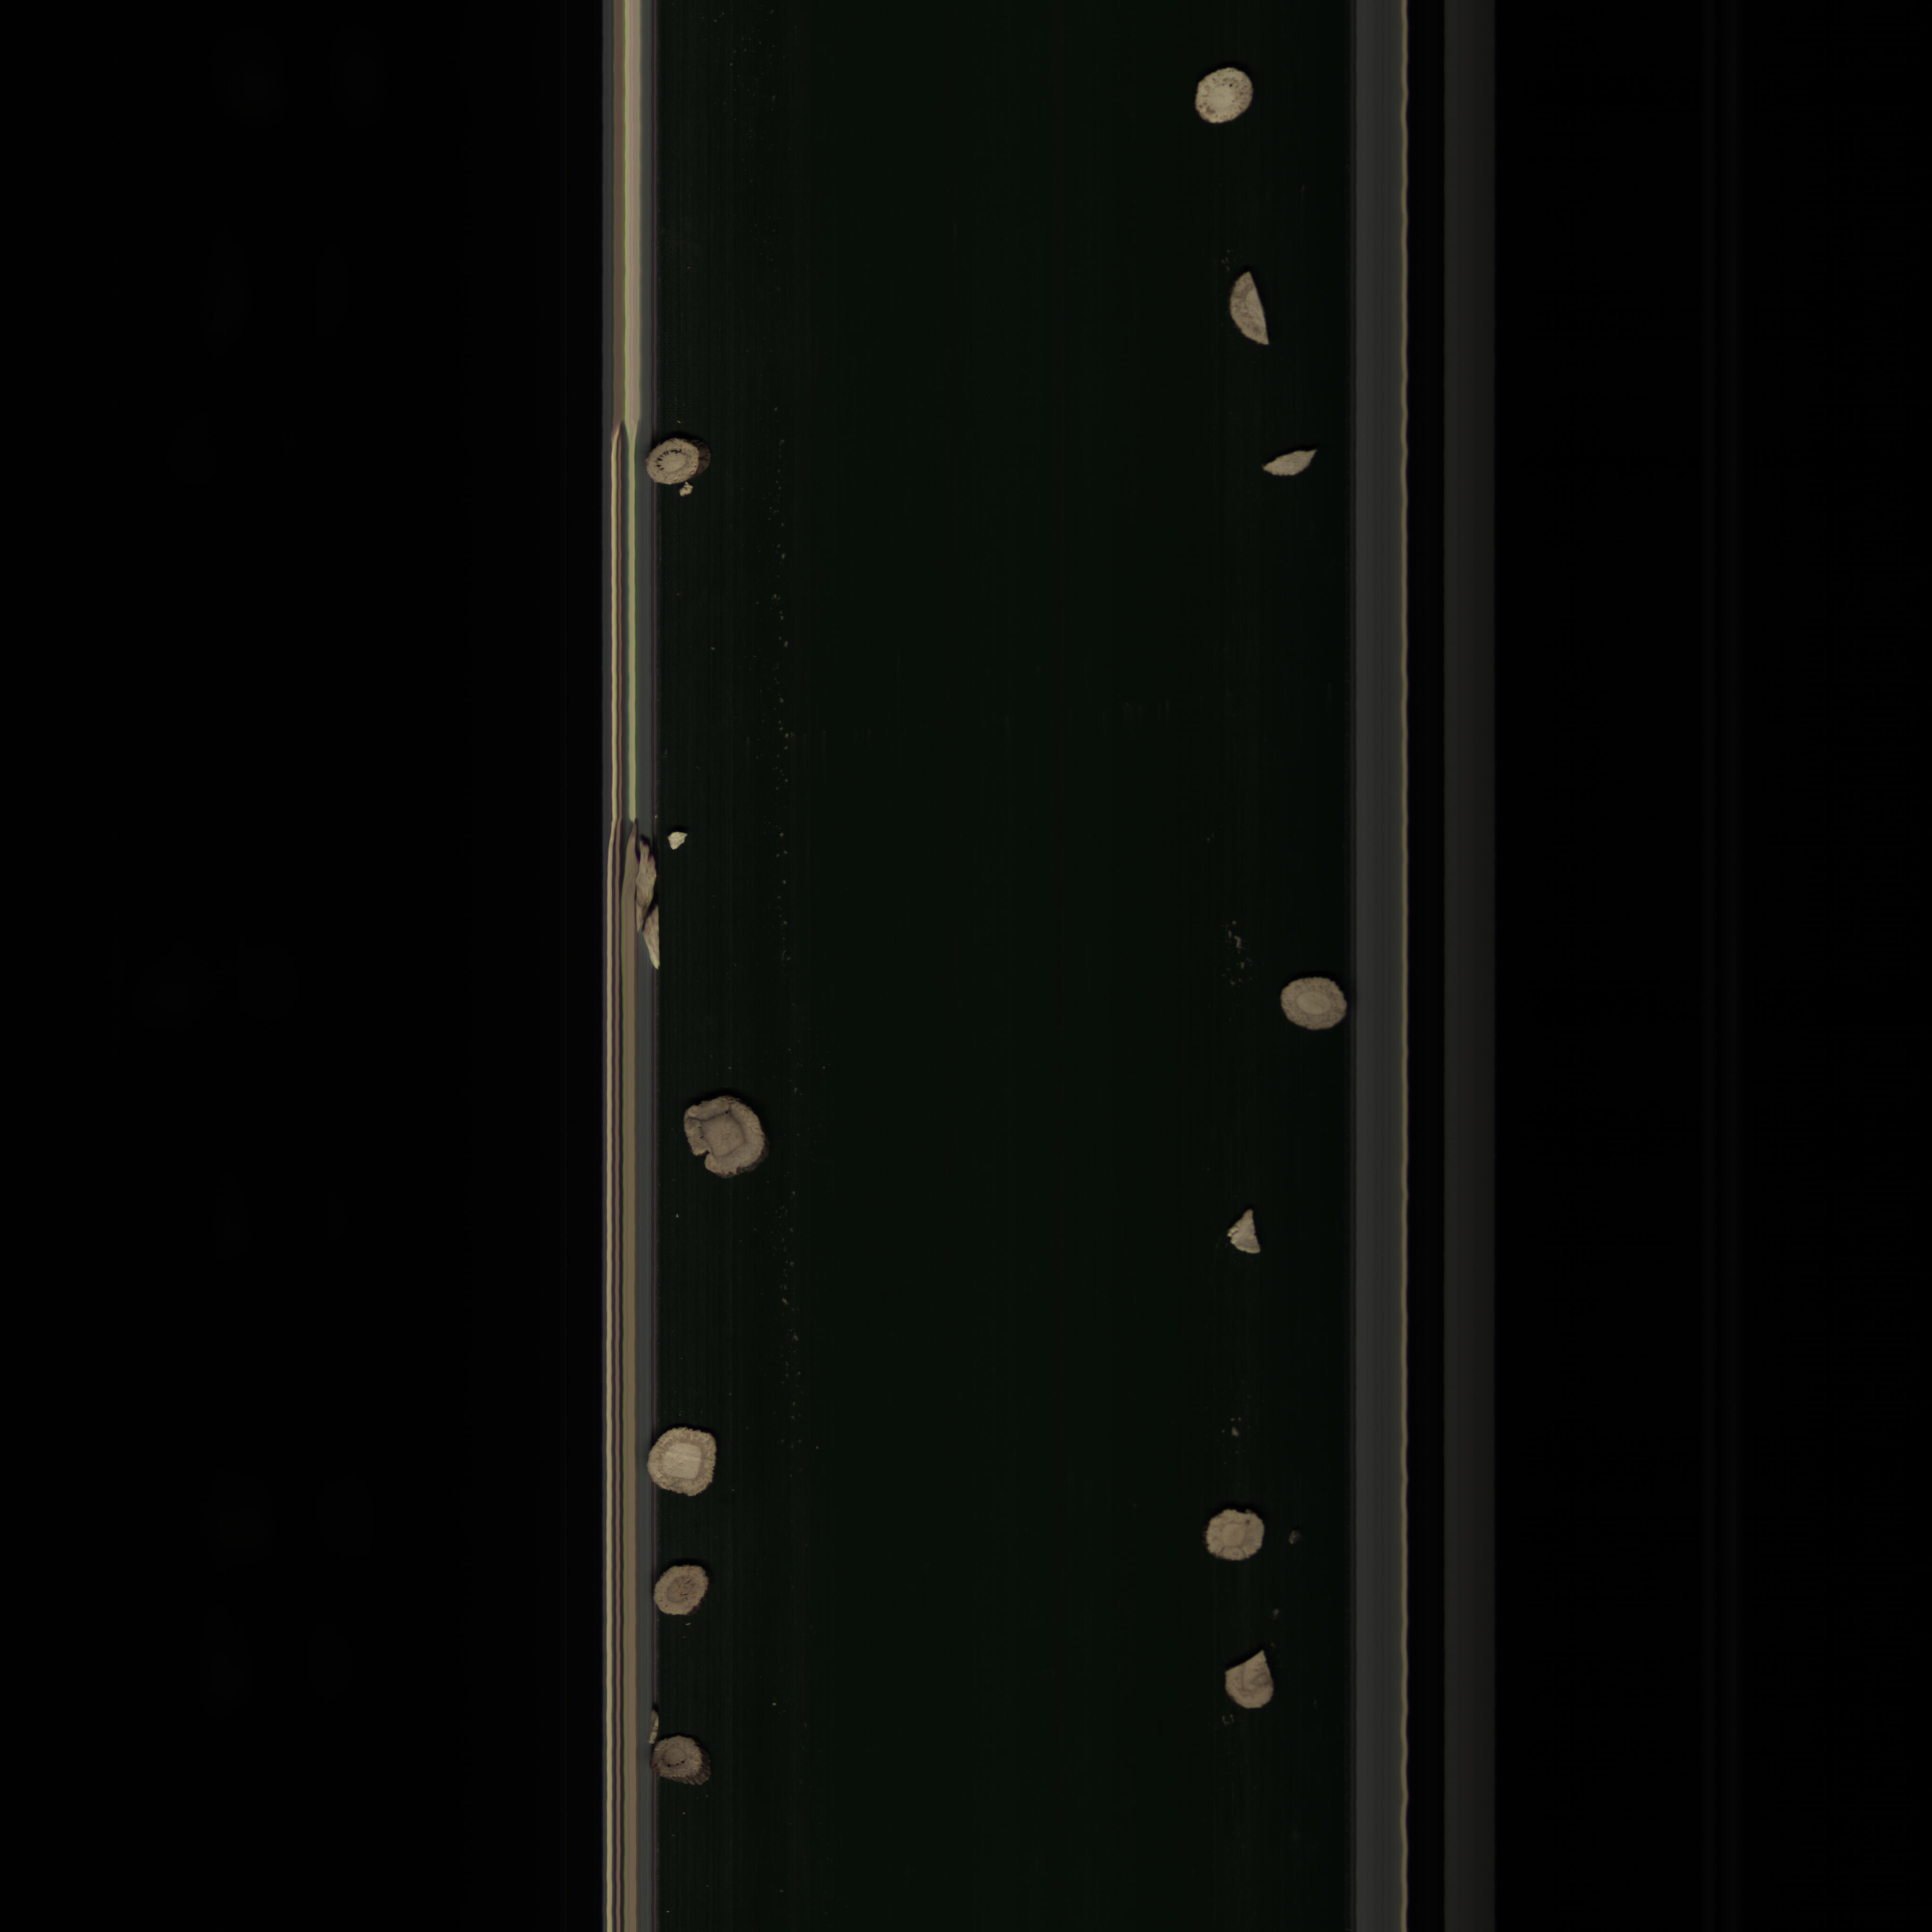debris: (1226, 264, 1283, 357), (1214, 1645, 1283, 1718), (1221, 1201, 1265, 1263), (1256, 446, 1325, 483)
distortion: (672, 1099, 777, 1182)
